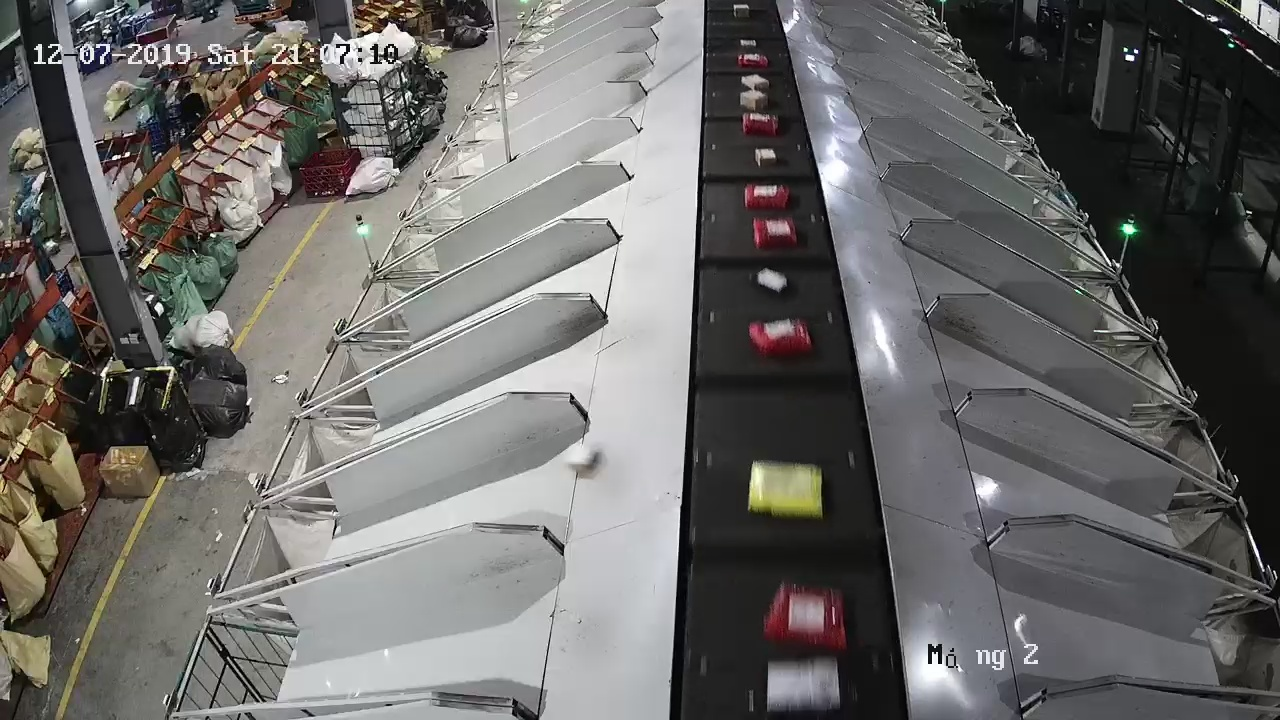parcel: (563, 442, 596, 474)
